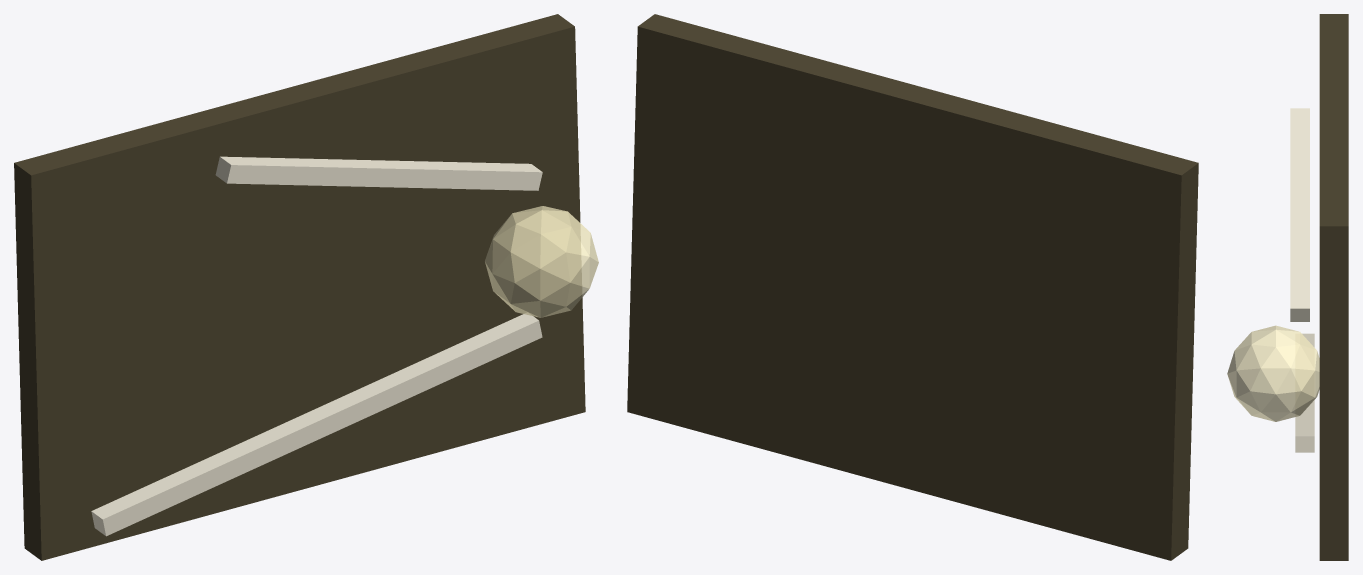
File: 02_world_prop_polish.glb
The picture shows the model from 3 angles, left to right: view 1: azimuth 30°, elevation 25°; view 2: azimuth 150°, elevation 25°; view 3: azimuth 270°, elevation 25°; orthographic projection. The views are drawn at different scales.
Parts seen in each view (by area): view 1: object_overlay_plate, edge_wear_a, glow_socket, edge_wear_b; view 2: object_overlay_plate; view 3: object_overlay_plate, glow_socket, edge_wear_b, edge_wear_a.
Part boxes in pixels (x1,y1,x2,y2): object_overlay_plate: (14, 14, 585, 560); edge_wear_a: (91, 313, 542, 536); glow_socket: (485, 206, 598, 317); edge_wear_b: (215, 156, 542, 190); object_overlay_plate: (627, 14, 1198, 560); object_overlay_plate: (1319, 14, 1348, 560); glow_socket: (1227, 325, 1319, 421); edge_wear_b: (1290, 108, 1309, 321); edge_wear_a: (1295, 333, 1314, 452).
Bounding box in the file's own units: 1.12 × 0.781 × 0.25.
